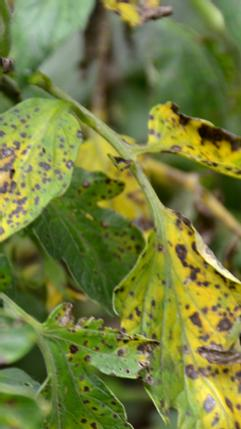Tomato Early blight leaf: (133, 203, 241, 429), (0, 94, 89, 247), (138, 105, 241, 180)
